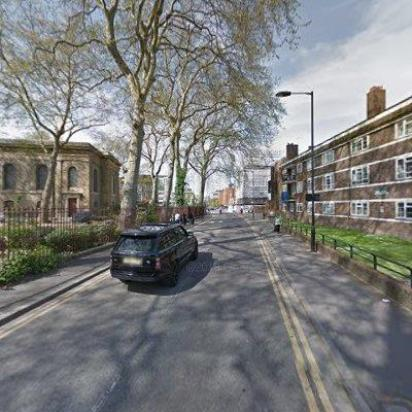moving-car: (107, 221, 197, 286)
stationary-car-offstreet: (72, 210, 96, 224)
